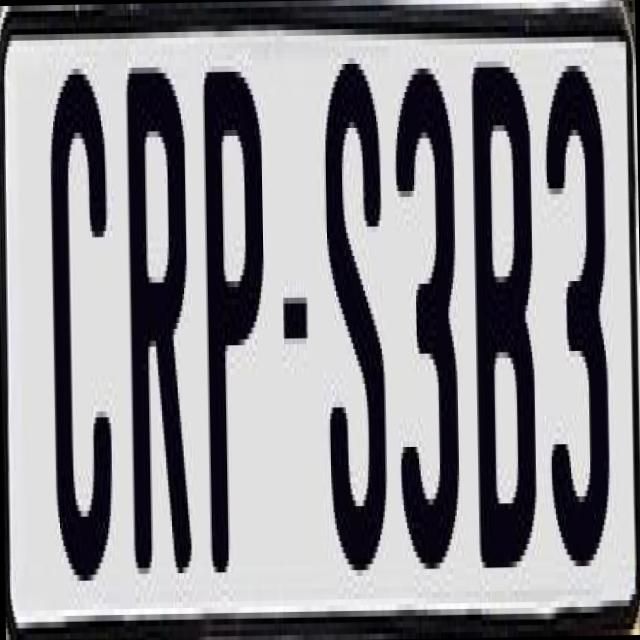3: (392, 49, 468, 574), (540, 59, 610, 595)
B: (468, 54, 542, 574)
C: (45, 67, 118, 604)
P: (200, 64, 274, 566)
R: (124, 49, 194, 568)
S: (323, 45, 388, 552)
